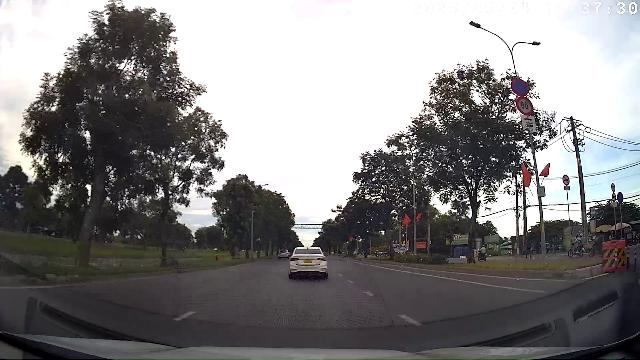127-toc-do-toi-da-80: (516, 97, 534, 115)
130-cam-dung-va-do-xe: (511, 78, 531, 96)
